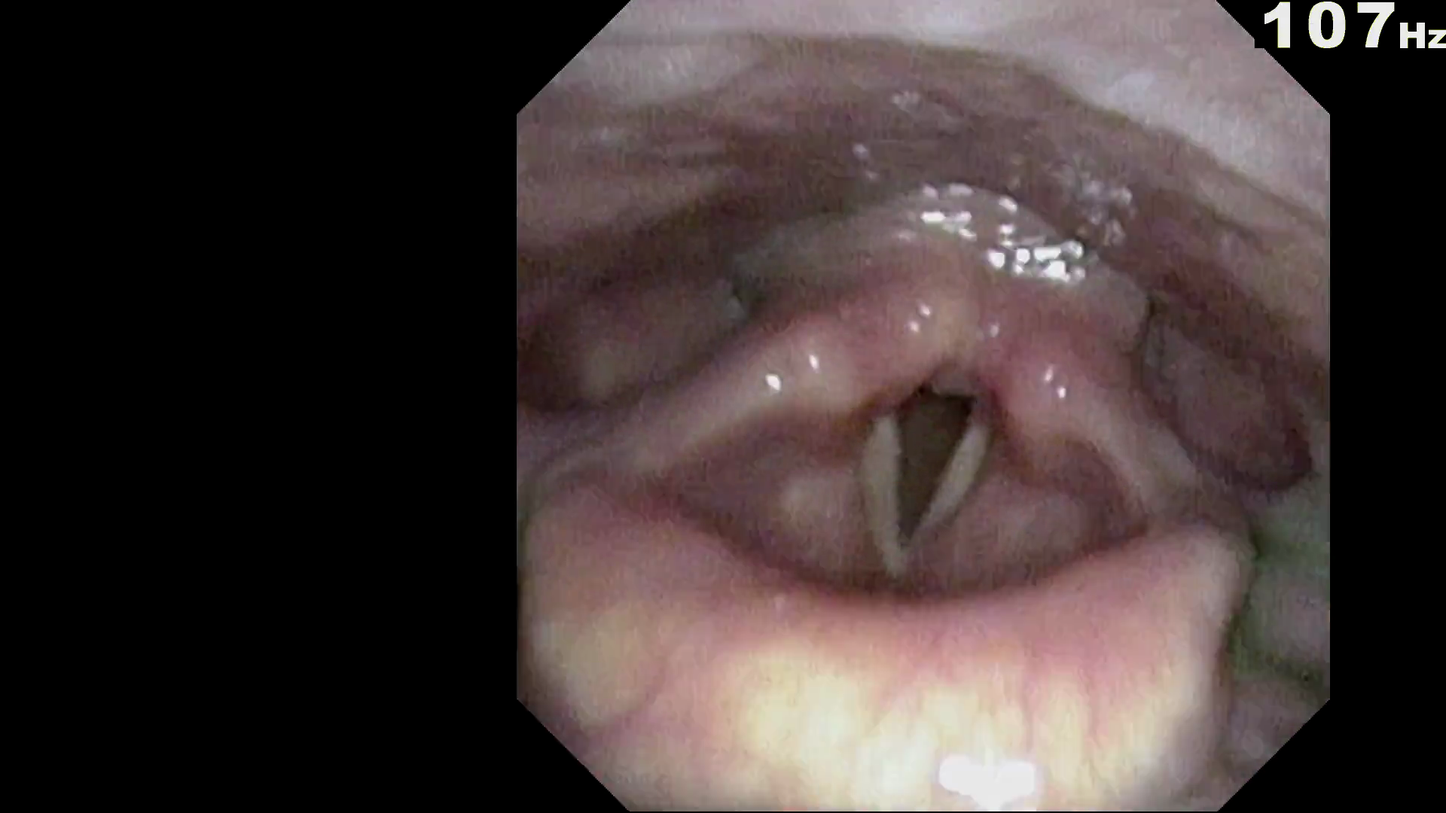trachea: (854, 358, 1006, 580)
